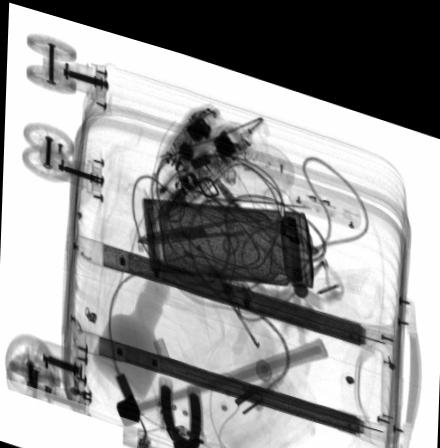Hammer: (113, 315, 329, 419)
Pliers: (133, 168, 295, 258), (157, 366, 205, 448)
